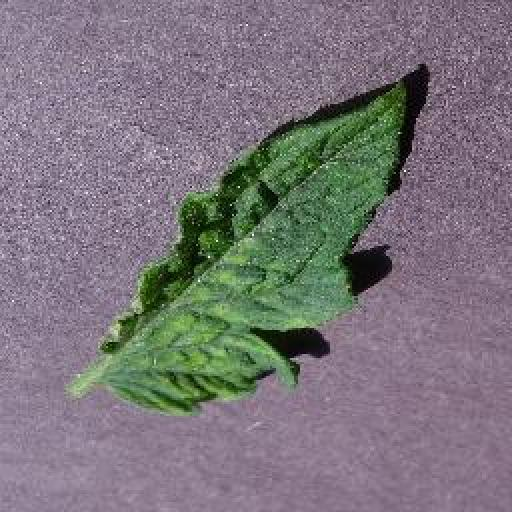Mosaic Virus: (99, 75, 412, 420)
